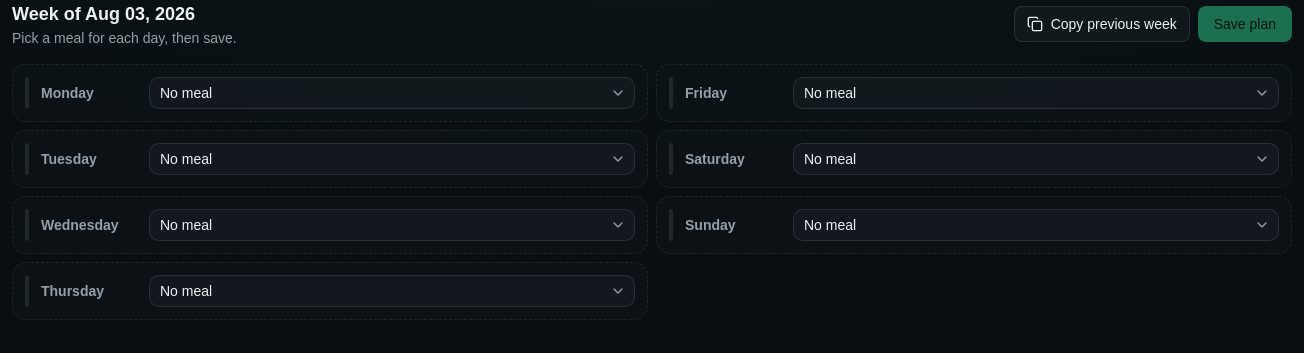
Test case: editing the plan › disables Save until something changes
Expected: the button "Save plan" is disabled, x1=1198 y1=6 x2=1292 y2=42
Step 1. Click the dropdown named "Monday" → [186, 93], box x1=149 y1=77 x2=635 y2=109
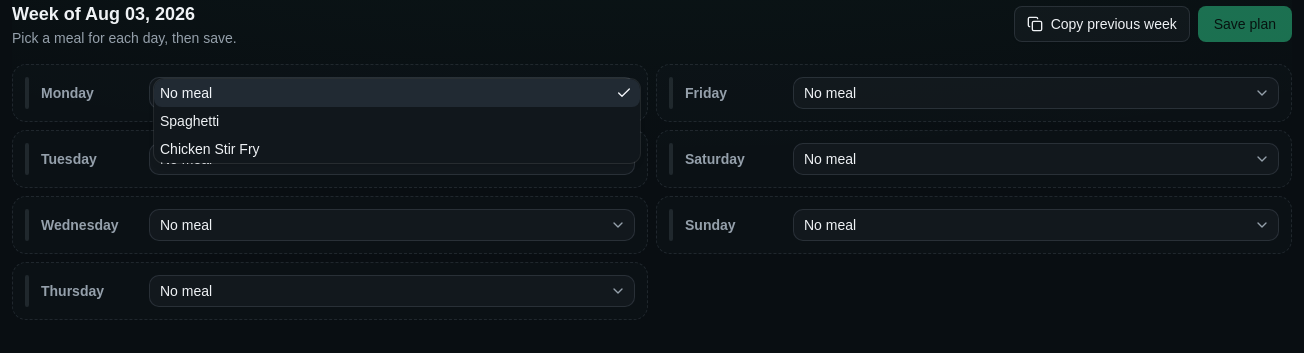
Step 2. Click the option "Spaghetti" → [190, 121], box x1=160 y1=113 x2=219 y2=129
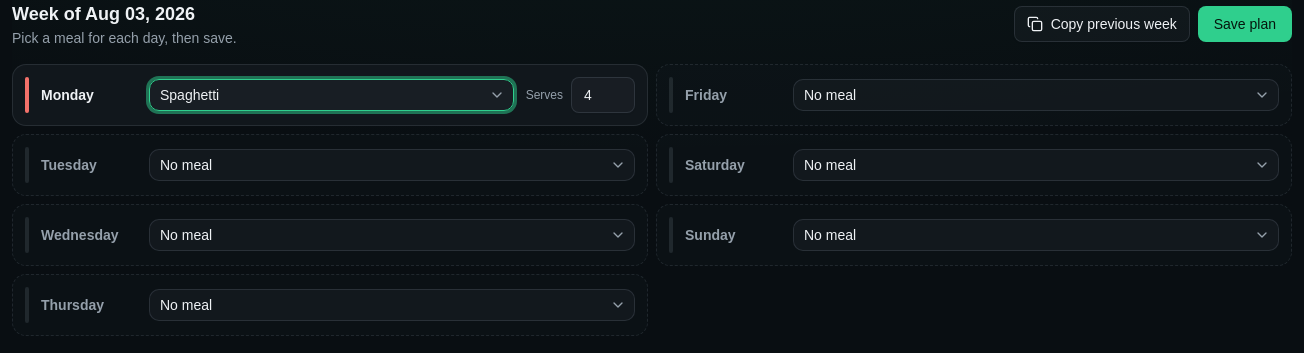
Now the button "Save plan" is enabled, box x1=1198 y1=6 x2=1292 y2=42
